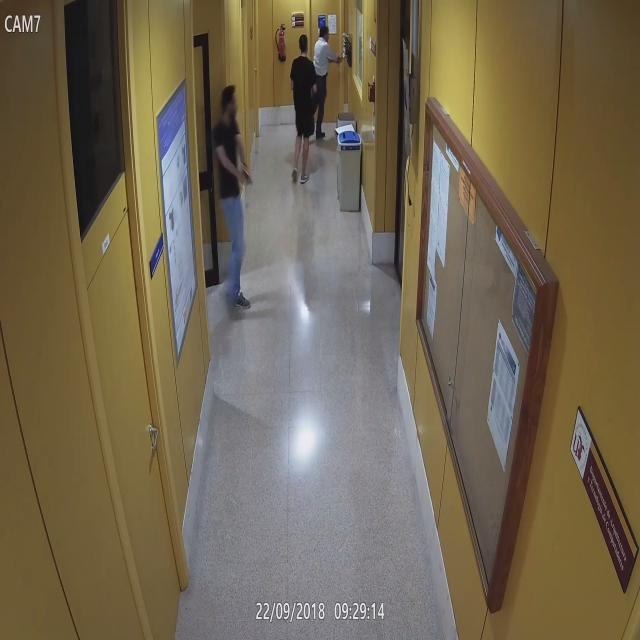Gun: (240, 162, 252, 188), (336, 50, 345, 66)
